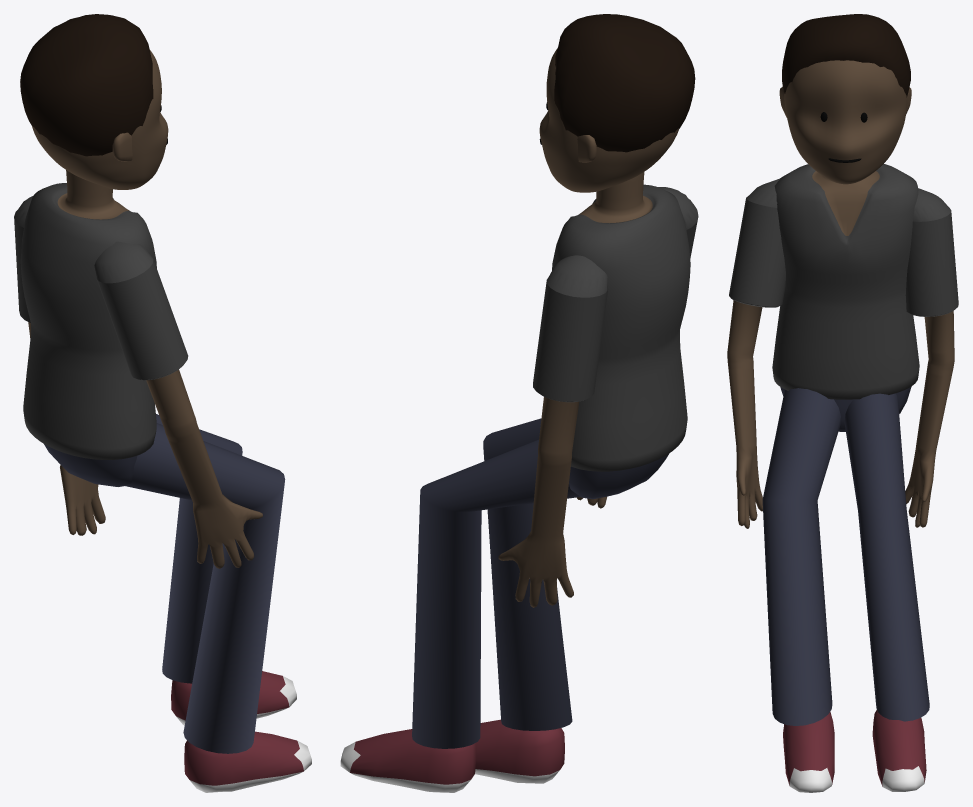
3 renders of one model, left to right at view 1: azimuth 30°, elevation 25°; view 2: azimuth 150°, elevation 25°; view 3: azimuth 270°, elevation 25°, orthographic. The views are drawn at different scales.
Visible parts, largest first — view 1: pCylinder12, pCylinder10, pCylinder13, pSphere9, pCylinder11, pCube16, pCube10, pCylinder14, pCube14, pCube15; view 2: pCylinder12, pCylinder11, pCylinder14, pSphere9, pCylinder10, pCube14, pCube10, pCube16, pCube15, pCylinder13; view 3: pCylinder12, pCylinder10, pCylinder11, pCube10, pCylinder13, pCylinder14, pSphere9, pCube14, pCube16, pCube15.
Boxes of the visible parts, bbox=[...] form: pCylinder12: bbox=[20, 170, 156, 459]; pCylinder10: bbox=[125, 423, 285, 753]; pCylinder13: bbox=[94, 241, 262, 568]; pSphere9: bbox=[20, 14, 153, 156]; pCylinder11: bbox=[156, 414, 242, 683]; pCube16: bbox=[184, 731, 311, 792]; pCube10: bbox=[32, 50, 168, 189]; pCylinder14: bbox=[14, 195, 105, 535]; pCube14: bbox=[171, 671, 296, 725]; pCube15: bbox=[44, 444, 137, 486]; pCylinder12: bbox=[552, 172, 690, 471]; pCylinder11: bbox=[412, 439, 580, 748]; pCylinder14: bbox=[498, 255, 607, 607]; pSphere9: bbox=[554, 14, 695, 152]; pCylinder10: bbox=[483, 418, 572, 730]; pCube14: bbox=[340, 729, 476, 792]; pCube10: bbox=[539, 48, 678, 192]; pCube16: bbox=[475, 719, 564, 783]; pCube15: bbox=[569, 453, 669, 499]; pCylinder13: bbox=[577, 187, 698, 508]; pCylinder12: bbox=[772, 164, 919, 399]; pCylinder10: bbox=[762, 388, 840, 725]; pCylinder11: bbox=[844, 393, 929, 721]; pCube10: bbox=[784, 60, 907, 184]; pCylinder13: bbox=[727, 178, 785, 528]; pCylinder14: bbox=[905, 188, 958, 527]; pSphere9: bbox=[782, 14, 910, 97]; pCube14: bbox=[872, 710, 926, 791]; pCube16: bbox=[783, 712, 834, 792]; pCube15: bbox=[780, 386, 911, 431].
Bounding box in the file's own units: 11.56 × 28.71 × 8.65.
